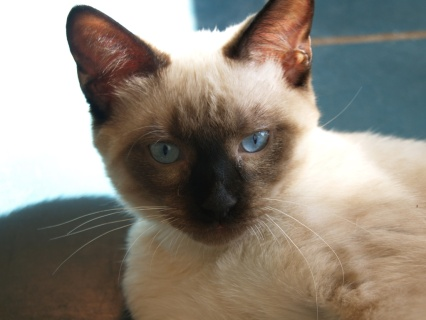Cat: (35, 0, 426, 320)
